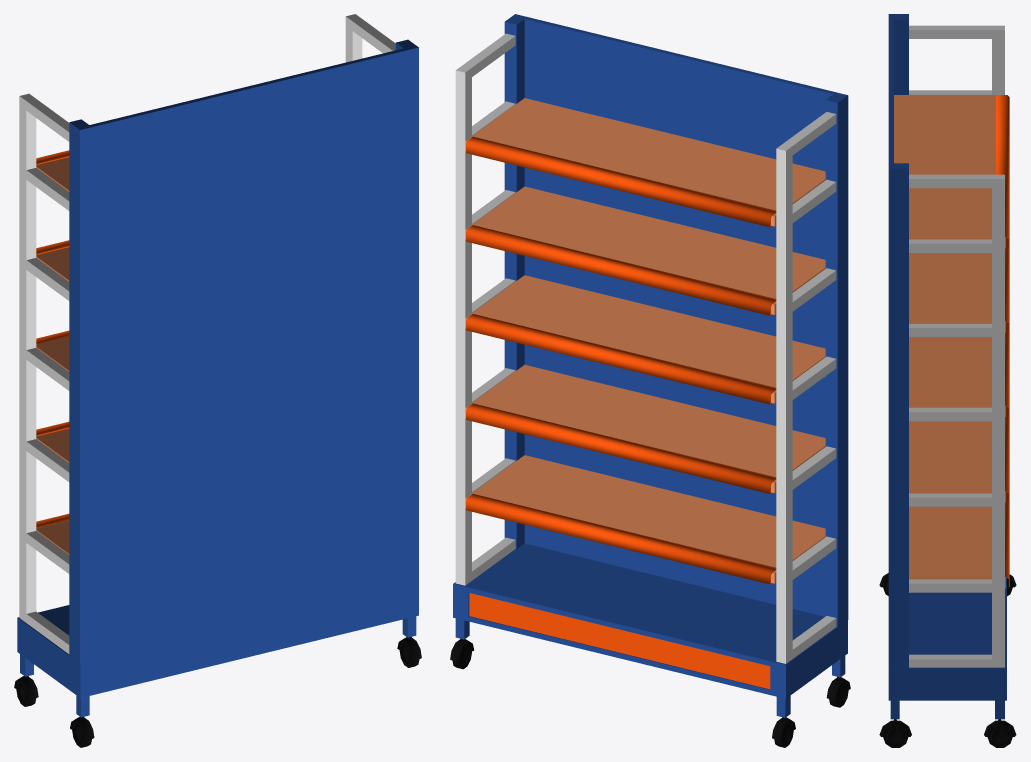
The model's file is Shelf 6.fbx.
The picture shows the model from 3 angles, left to right: view 1: azimuth 30°, elevation 25°; view 2: azimuth 150°, elevation 25°; view 3: azimuth 270°, elevation 25°; orthographic projection. The views are drawn at different scales.
Visible parts, largest first — view 1: Node 0; view 2: Node 0; view 3: Node 0.
Boxes of the visible parts, <box> form: Node 0: <box>14,14,421,747</box>; Node 0: <box>450,14,850,747</box>; Node 0: <box>879,14,1016,747</box>.
Bounding box in the file's own units: 0.5116 × 2.39 × 1.37.
